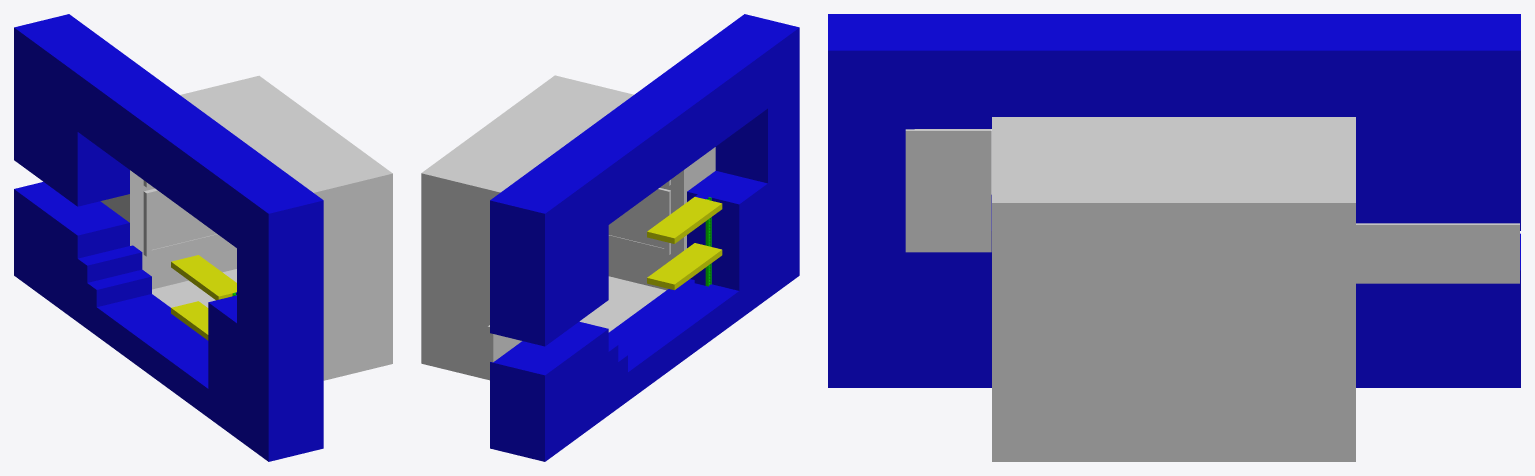
File: Level_3_scene16_colored_bg.fbx
3 views of the same model, side by side, from view 1: azimuth 30°, elevation 25°; view 2: azimuth 150°, elevation 25°; view 3: azimuth 270°, elevation 25° (orthographic). The views are drawn at different scales.
Visible parts, largest first — view 1: Cube.014, Cube.181, Cube.183, Cube.077, tvb.004, Cube.078, Cube.013, Cube.182, Cube.001, Cube.185; view 2: Cube.014, Cube.181, Cube.183, Cube.078, Cube.182, tvb.007, Cube.013, Cube.001, Cube.184, Cube.185, Cube.077, Cube.005; view 3: Cube.014, Cube.181, Cube.183, Cube.184, Cube.185, Cube.078, Cube.182.
Boxes of the visible parts, x1=… form: Cube.014: x1=14, y1=14, x2=323, y2=461; Cube.181: x1=127, y1=77, x2=392, y2=376; Cube.183: x1=180, y1=75, x2=392, y2=196; Cube.077: x1=77, y1=245, x2=151, y2=306; tvb.004: x1=143, y1=188, x2=222, y2=256; Cube.078: x1=208, y1=295, x2=236, y2=409; Cube.013: x1=171, y1=255, x2=236, y2=300; Cube.182: x1=152, y1=269, x2=392, y2=380; Cube.001: x1=171, y1=301, x2=208, y2=340; Cube.185: x1=100, y1=194, x2=129, y2=222; Cube.014: x1=490, y1=14, x2=799, y2=461; Cube.181: x1=421, y1=168, x2=687, y2=374; Cube.183: x1=421, y1=75, x2=633, y2=192; Cube.078: x1=687, y1=171, x2=767, y2=290; Cube.182: x1=421, y1=276, x2=665, y2=380; tvb.007: x1=608, y1=188, x2=670, y2=254; Cube.013: x1=647, y1=197, x2=722, y2=243; Cube.001: x1=647, y1=243, x2=722, y2=290; Cube.184: x1=687, y1=147, x2=715, y2=190; Cube.185: x1=487, y1=325, x2=521, y2=369; Cube.077: x1=608, y1=342, x2=627, y2=386; Cube.005: x1=694, y1=194, x2=708, y2=285; Cube.014: x1=828, y1=14, x2=1520, y2=387; Cube.181: x1=992, y1=178, x2=1355, y2=457; Cube.183: x1=992, y1=117, x2=1355, y2=210; Cube.184: x1=905, y1=129, x2=991, y2=252; Cube.185: x1=1356, y1=223, x2=1519, y2=283; Cube.078: x1=914, y1=195, x2=991, y2=348; Cube.182: x1=992, y1=454, x2=1355, y2=461.
Bounding box in the file's own units: 3348 × 4300 × 8000.
